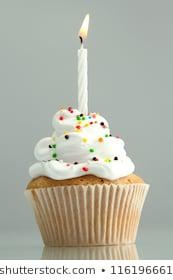fire: (76, 12, 90, 40)
